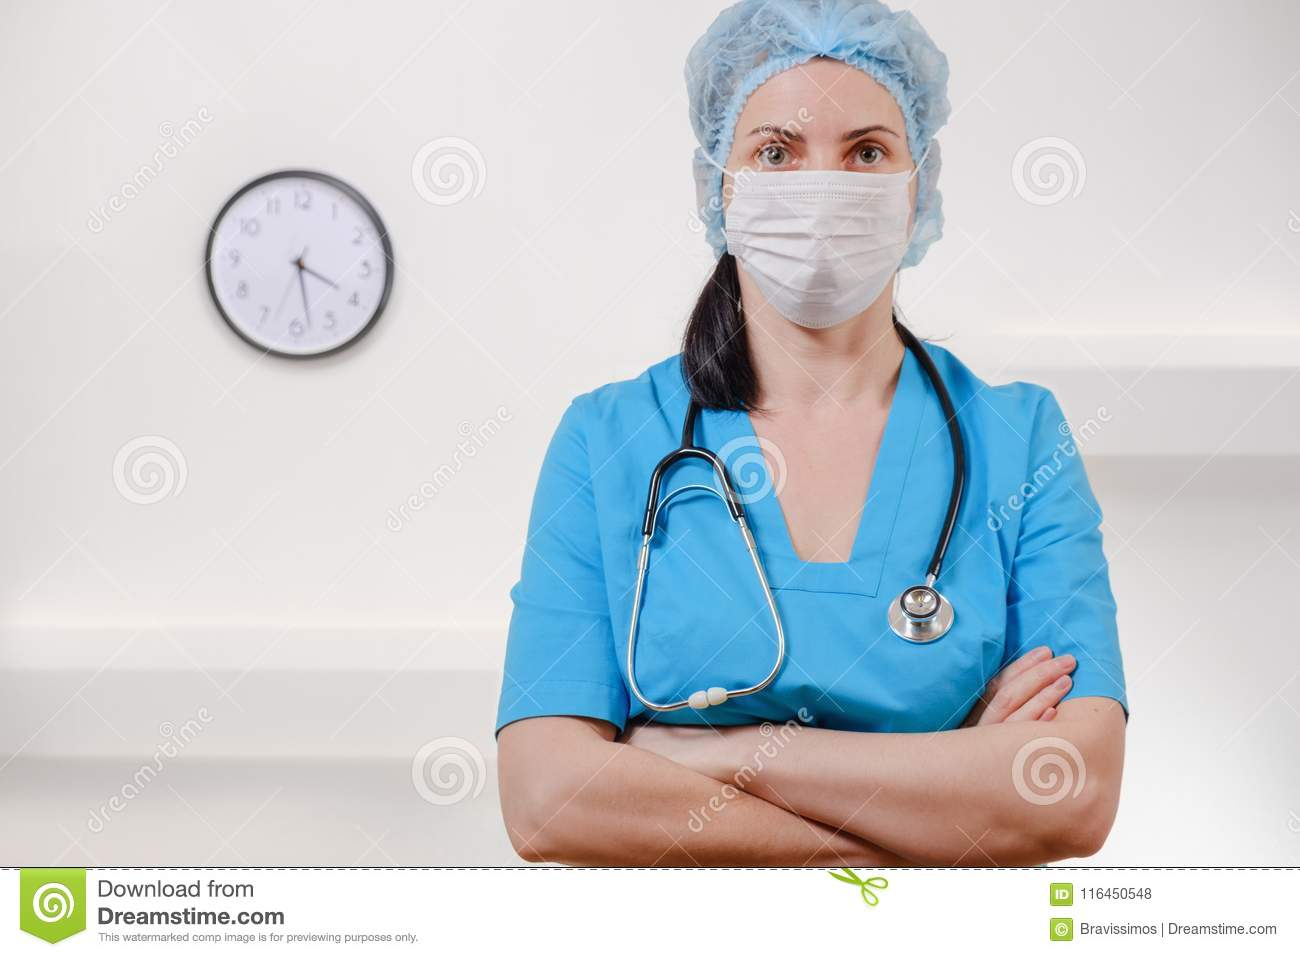mask: (717, 164, 913, 335)
